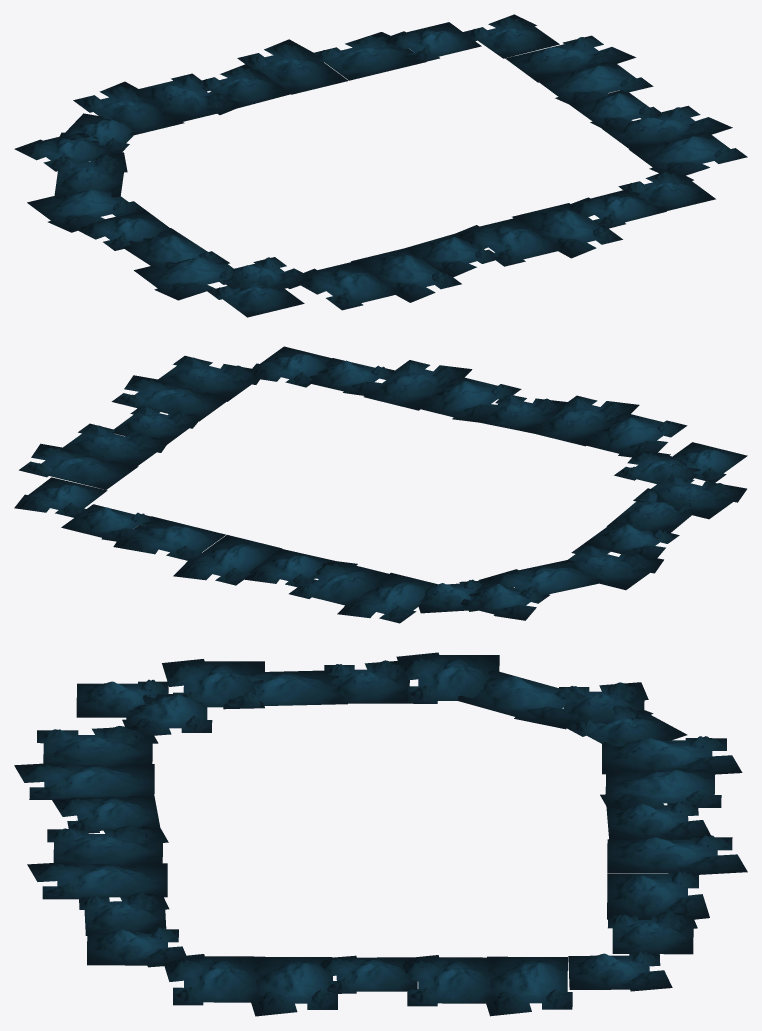
File: shan.FBX
The picture shows the model from 3 angles, top to bottom: view 1: azimuth 30°, elevation 25°; view 2: azimuth 150°, elevation 25°; view 3: azimuth 270°, elevation 25°; orthographic projection. The views are drawn at different scales.
Parts seen in each view (by area): view 1: Box028, Box010, Box027, Box021, Box023, Box007, Box024, Box020, Box05, Box018, Box011, Box030 (+16 smaller); view 2: Box028, Box010, Box027, Box021, Box023, Box020, Box024, Box05, Box007, Box030, Box011, Box031 (+16 smaller); view 3: Box028, Box021, Box010, Box023, Box007, Box027, Box020, Box031, Box05, Box024, Box011, Box030 (+16 smaller).
Boxes of the visible parts, x1,y1,x2,y2 form: Box028: [237, 39, 348, 94]; Box010: [505, 35, 636, 82]; Box027: [310, 32, 426, 80]; Box021: [512, 203, 622, 258]; Box023: [351, 248, 461, 302]; Box007: [629, 132, 747, 176]; Box024: [298, 262, 399, 310]; Box020: [456, 218, 561, 266]; Box05: [602, 105, 732, 151]; Box018: [27, 189, 144, 232]; Box011: [539, 62, 653, 105]; Box030: [135, 73, 237, 121]; Box028: [173, 535, 282, 585]; Box010: [19, 443, 138, 489]; Box027: [113, 516, 225, 561]; Box021: [363, 360, 472, 410]; Box023: [532, 395, 639, 446]; Box020: [419, 377, 521, 422]; Box024: [585, 413, 687, 457]; Box05: [111, 375, 229, 421]; Box007: [157, 355, 259, 401]; Box030: [289, 561, 390, 605]; Box011: [62, 423, 167, 466]; Box031: [337, 572, 437, 623]; Box028: [607, 835, 747, 874]; Box021: [27, 863, 167, 899]; Box010: [486, 956, 572, 1016]; Box023: [14, 763, 154, 799]; Box007: [164, 954, 264, 1005]; Box027: [607, 870, 709, 919]; Box020: [47, 825, 168, 867]; Box031: [602, 736, 742, 774]; Box05: [251, 957, 337, 1016]; Box024: [37, 726, 158, 768]; Box011: [403, 955, 497, 1006]; Box030: [600, 769, 721, 810].
Bounding box in the file's own units: 11590 × 207 × 9875.
Materials: 1 (1 with a texture image).
